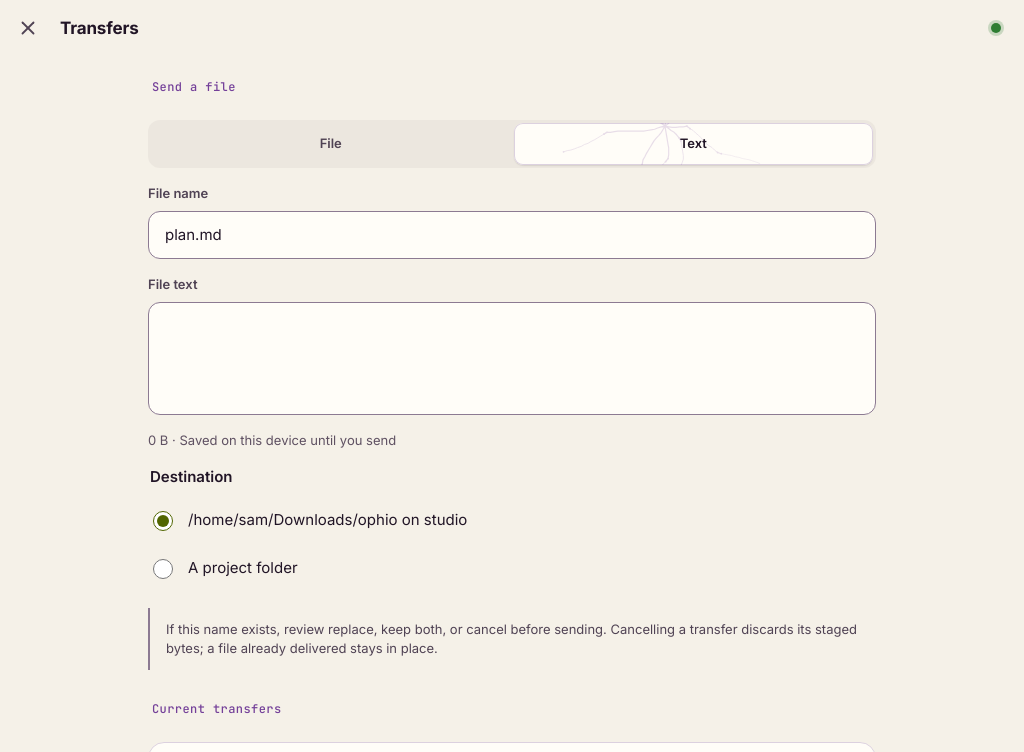
Scenario: keeps Home out of the projects a file can be sent to
Click the radio button labelled "A project folder" at point(163, 569), box [153, 559, 173, 579]
Wait 600 ms
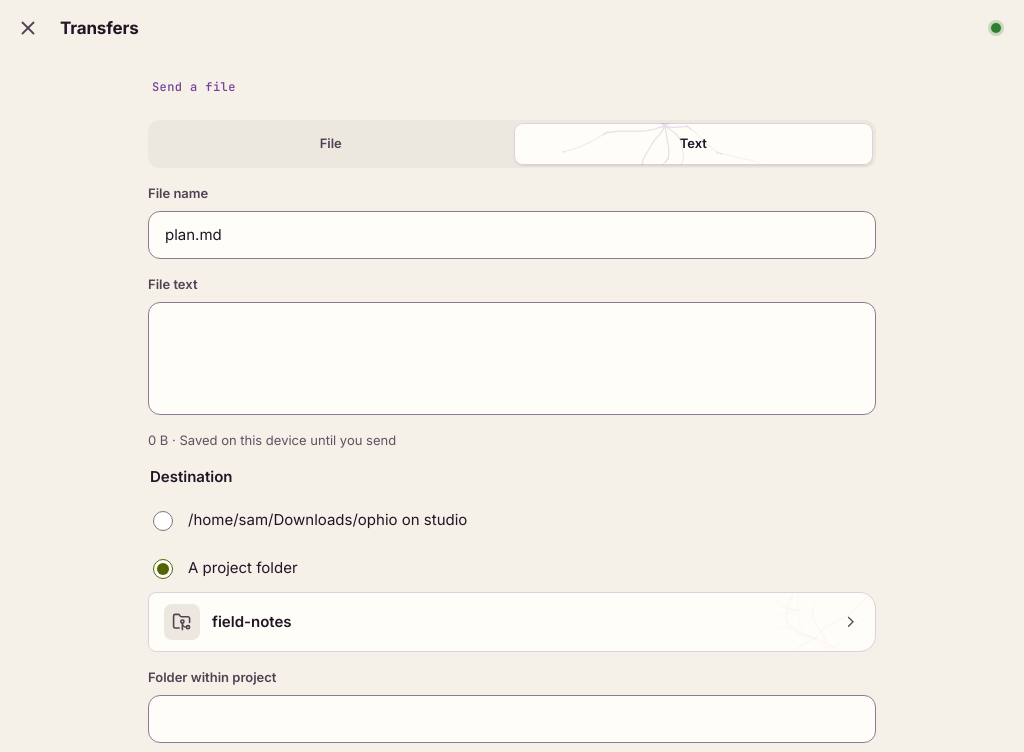
Click the button "field-notes" at point(182, 622), box [148, 592, 876, 652]
Wait 600 ms
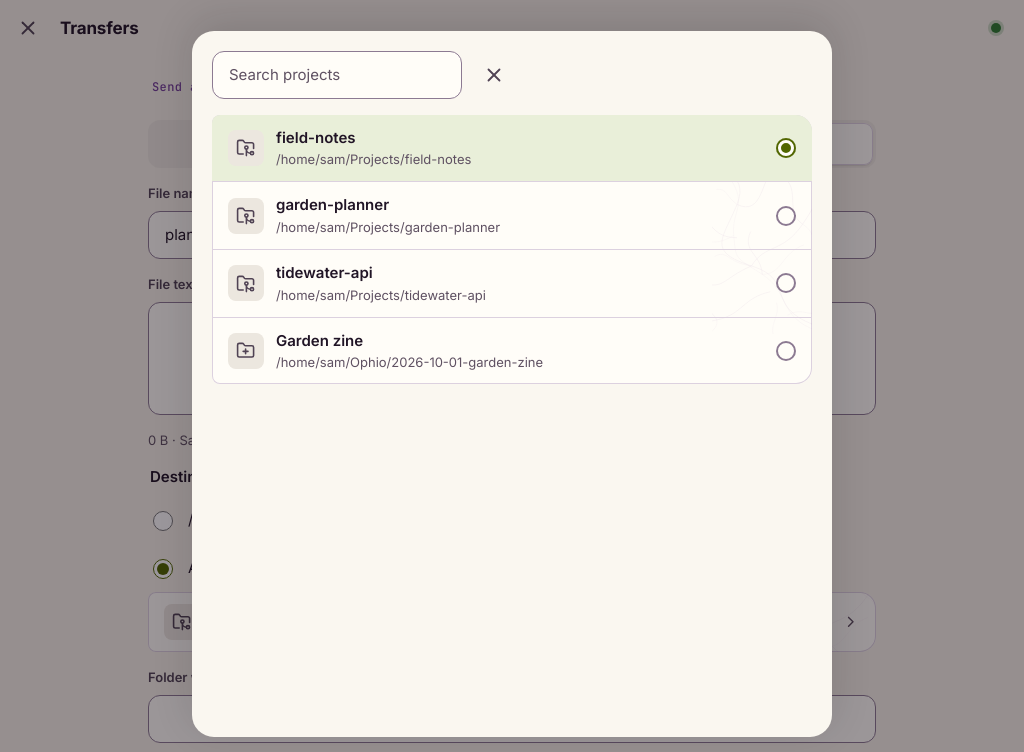
Type "zzz" into the search field labelled "Search projects" at point(337, 75), box [212, 51, 462, 99]
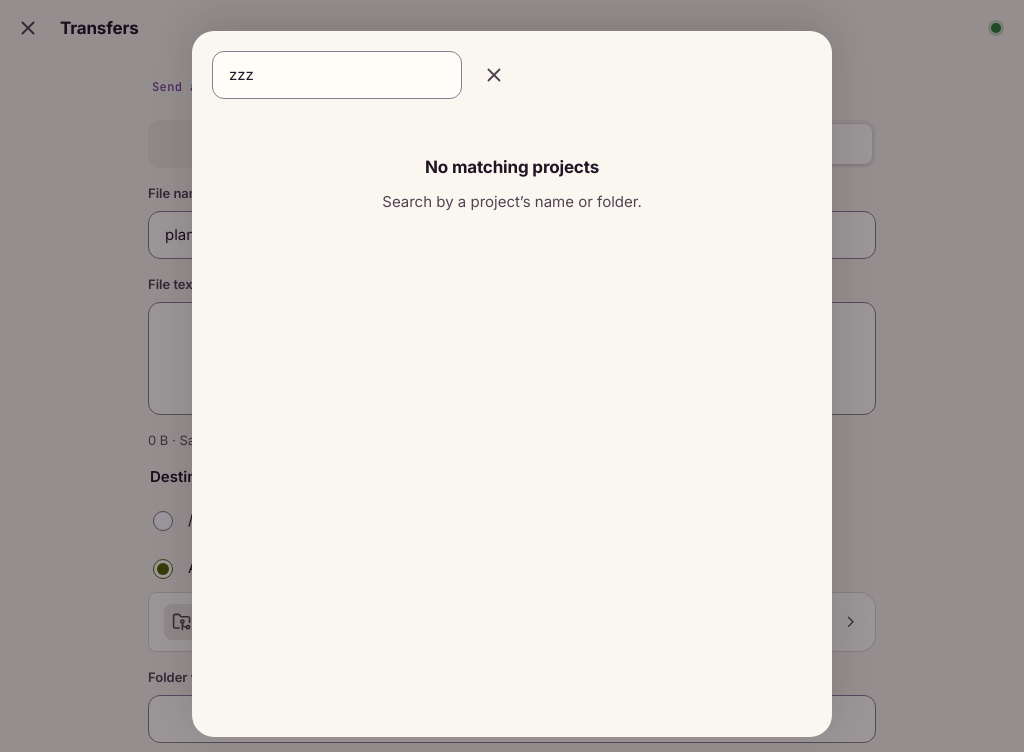
Expected: the text "No matching projects" is shown, [425, 155, 599, 179]
